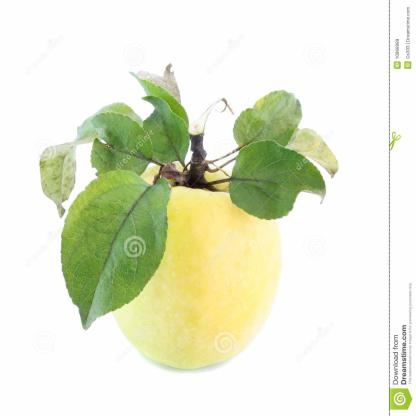Apple leaf: (56, 171, 171, 344), (223, 136, 350, 232), (82, 84, 206, 178)
